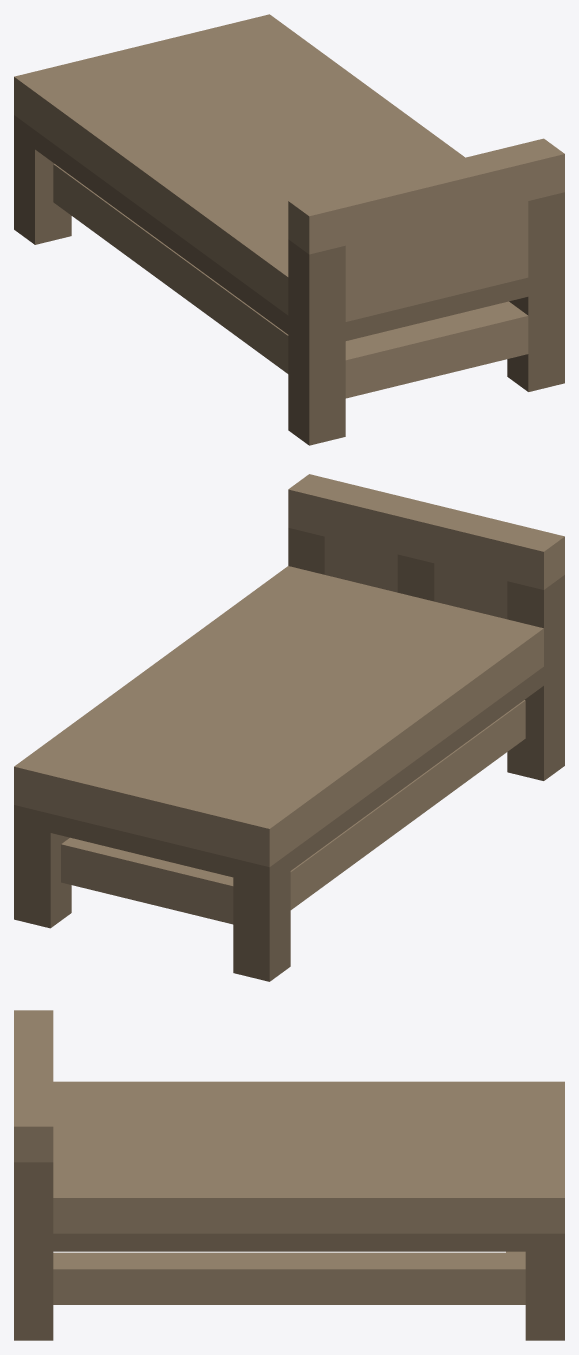
The model's file is banco_carpintero_asedio_01.glb.
3 renders of one model, top to bottom at view 1: azimuth 30°, elevation 25°; view 2: azimuth 150°, elevation 25°; view 3: azimuth 270°, elevation 25°, orthographic. The views are drawn at different scales.
Parts seen in each view (by area): view 1: banco_carpintero_asedio; view 2: banco_carpintero_asedio; view 3: banco_carpintero_asedio.
Part boxes in pixels (bbox=[...]): banco_carpintero_asedio: bbox=[14, 14, 564, 445]; banco_carpintero_asedio: bbox=[14, 474, 564, 981]; banco_carpintero_asedio: bbox=[14, 1010, 564, 1340].
Size of the model in its own units: 1 by 0.8571 by 2.
